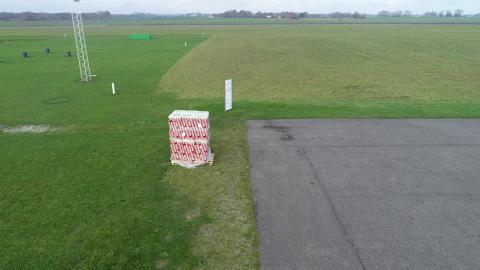RockwoolPallet: (167, 109, 212, 166)
